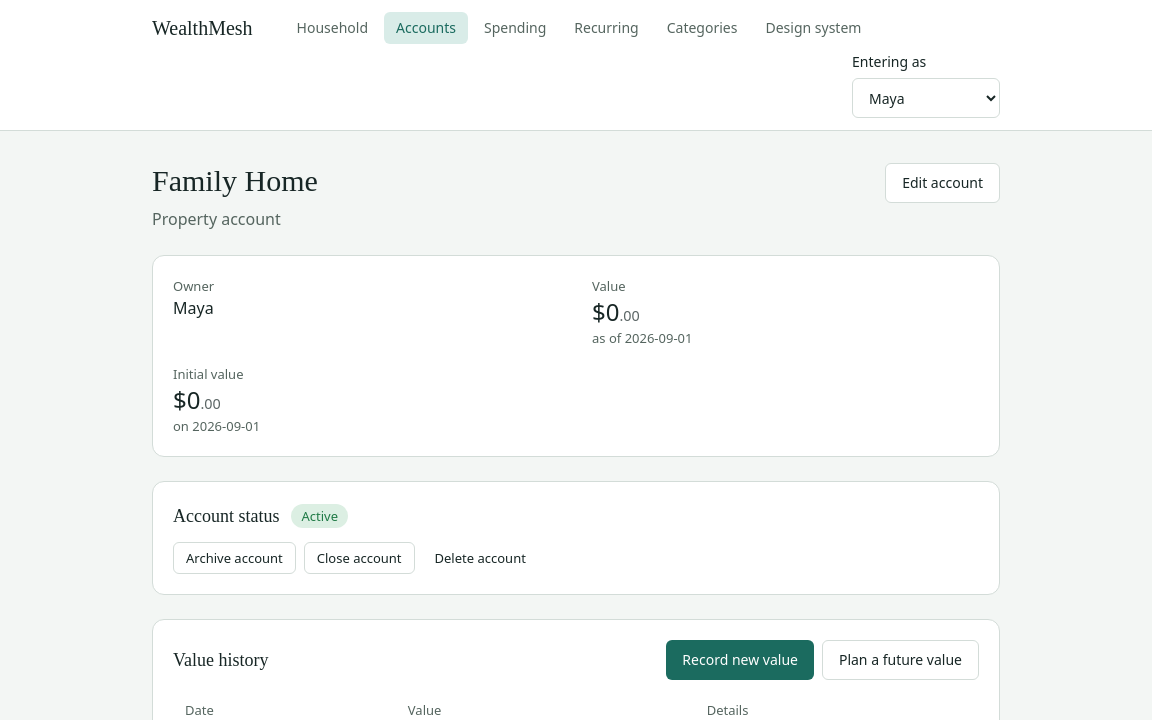
words of the thing shown › V2_PROPERTY_005 Archive and Close reviews of a property talk about values, not entries, transfers or a bank
Click the button "Archive account": (234, 558) [173,542,296,574]
(page scrolled)
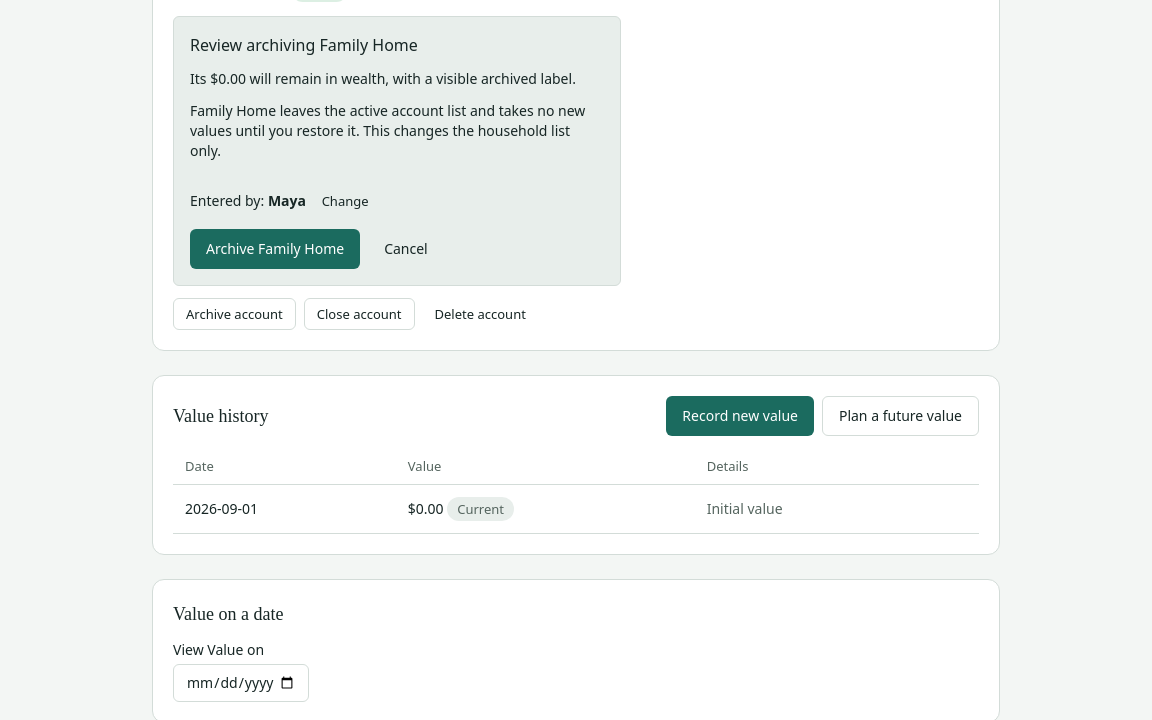
Click the button "Cancel": (406, 249) [368,229,444,269]
(page scrolled)
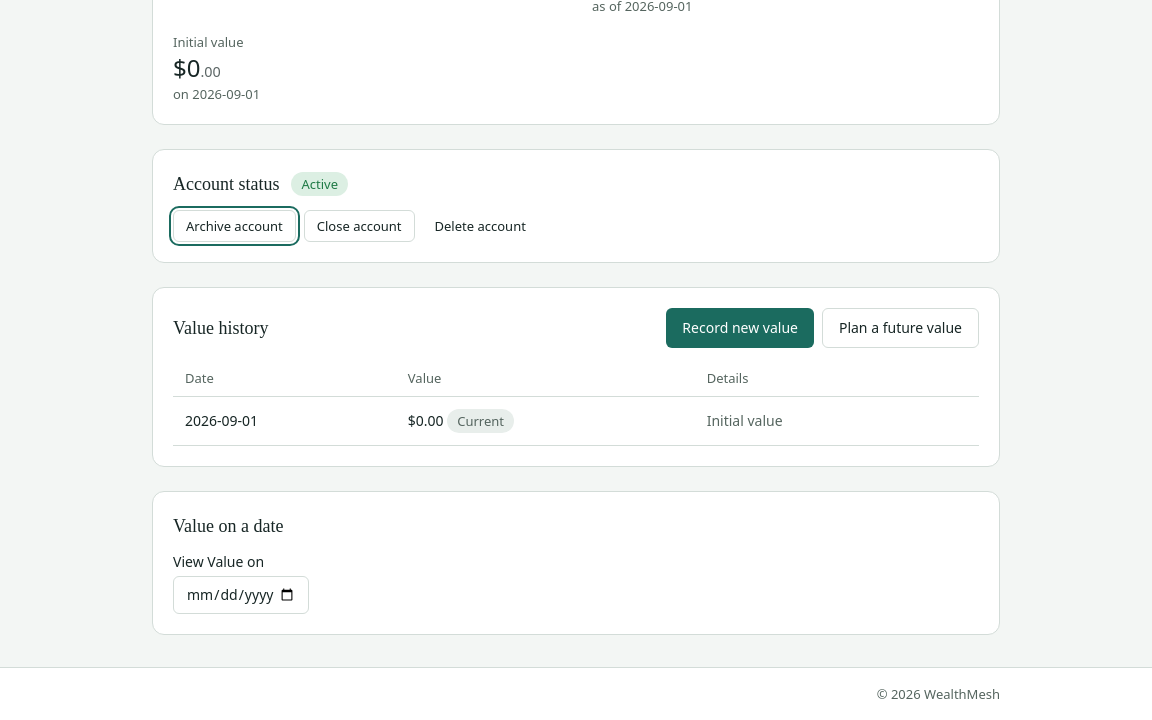
Click the button "Close account": (359, 226) [304,210,415,242]
(page scrolled)
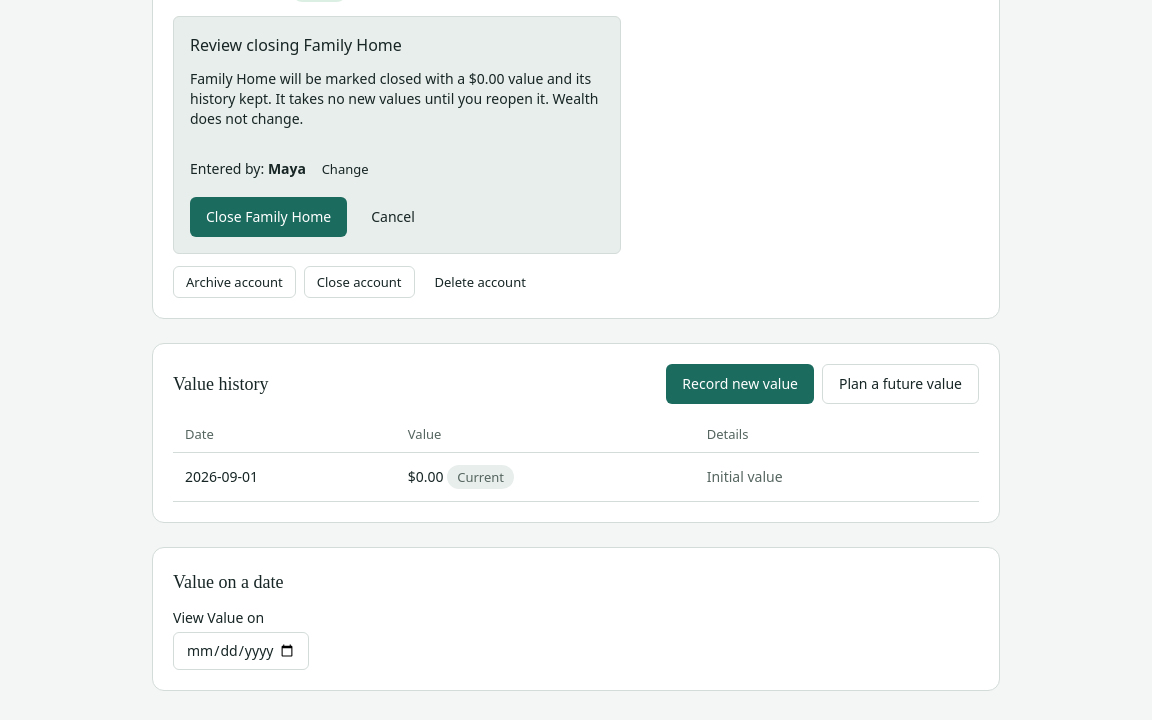
Expected: the element "Review closing Family Home" does not show "entries", [173,16,621,254]
Now the element "Review closing Family Home" shows "no new values", box [173,16,621,254]
